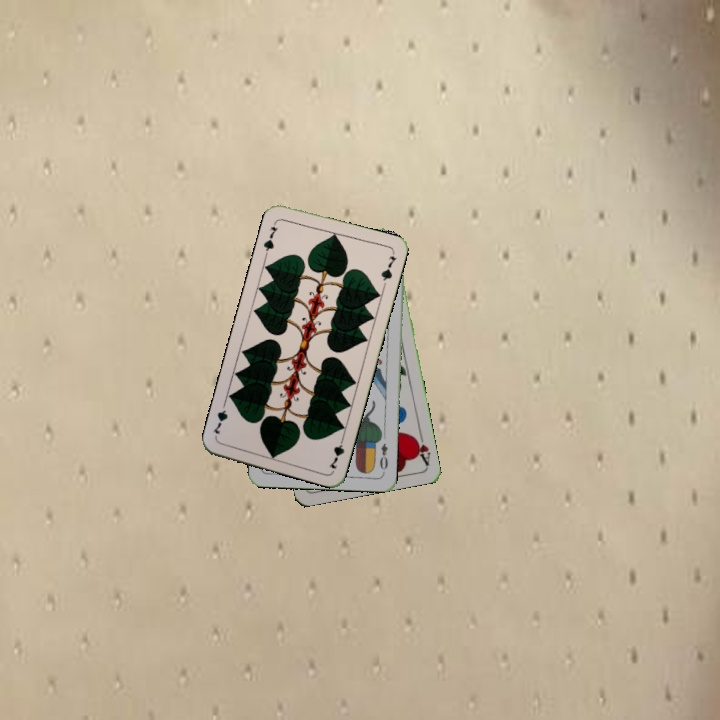EO: (376, 440, 391, 476)
G7: (325, 432, 347, 472), (259, 218, 280, 257)
HA: (409, 427, 433, 467)
